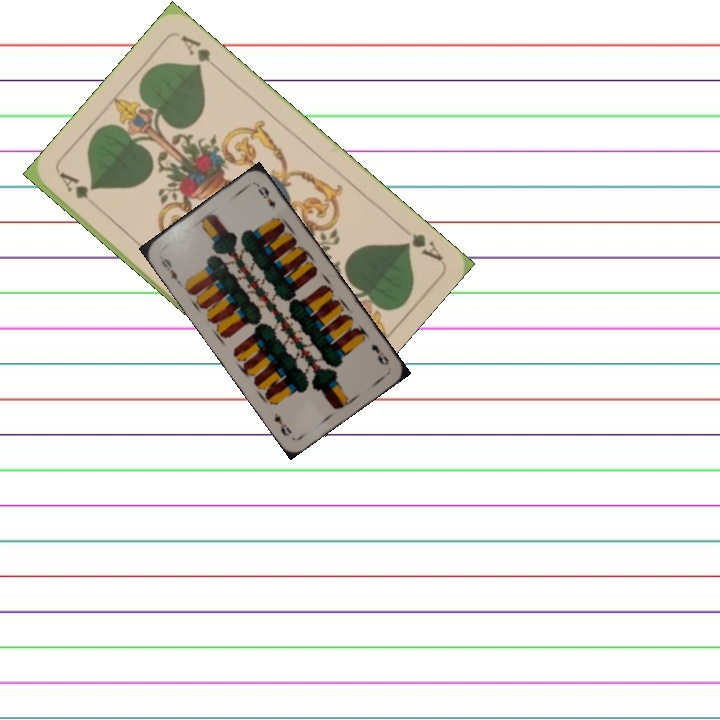E9: (155, 251, 184, 287), (367, 340, 392, 368)
GA: (394, 220, 445, 263), (55, 168, 92, 202)
